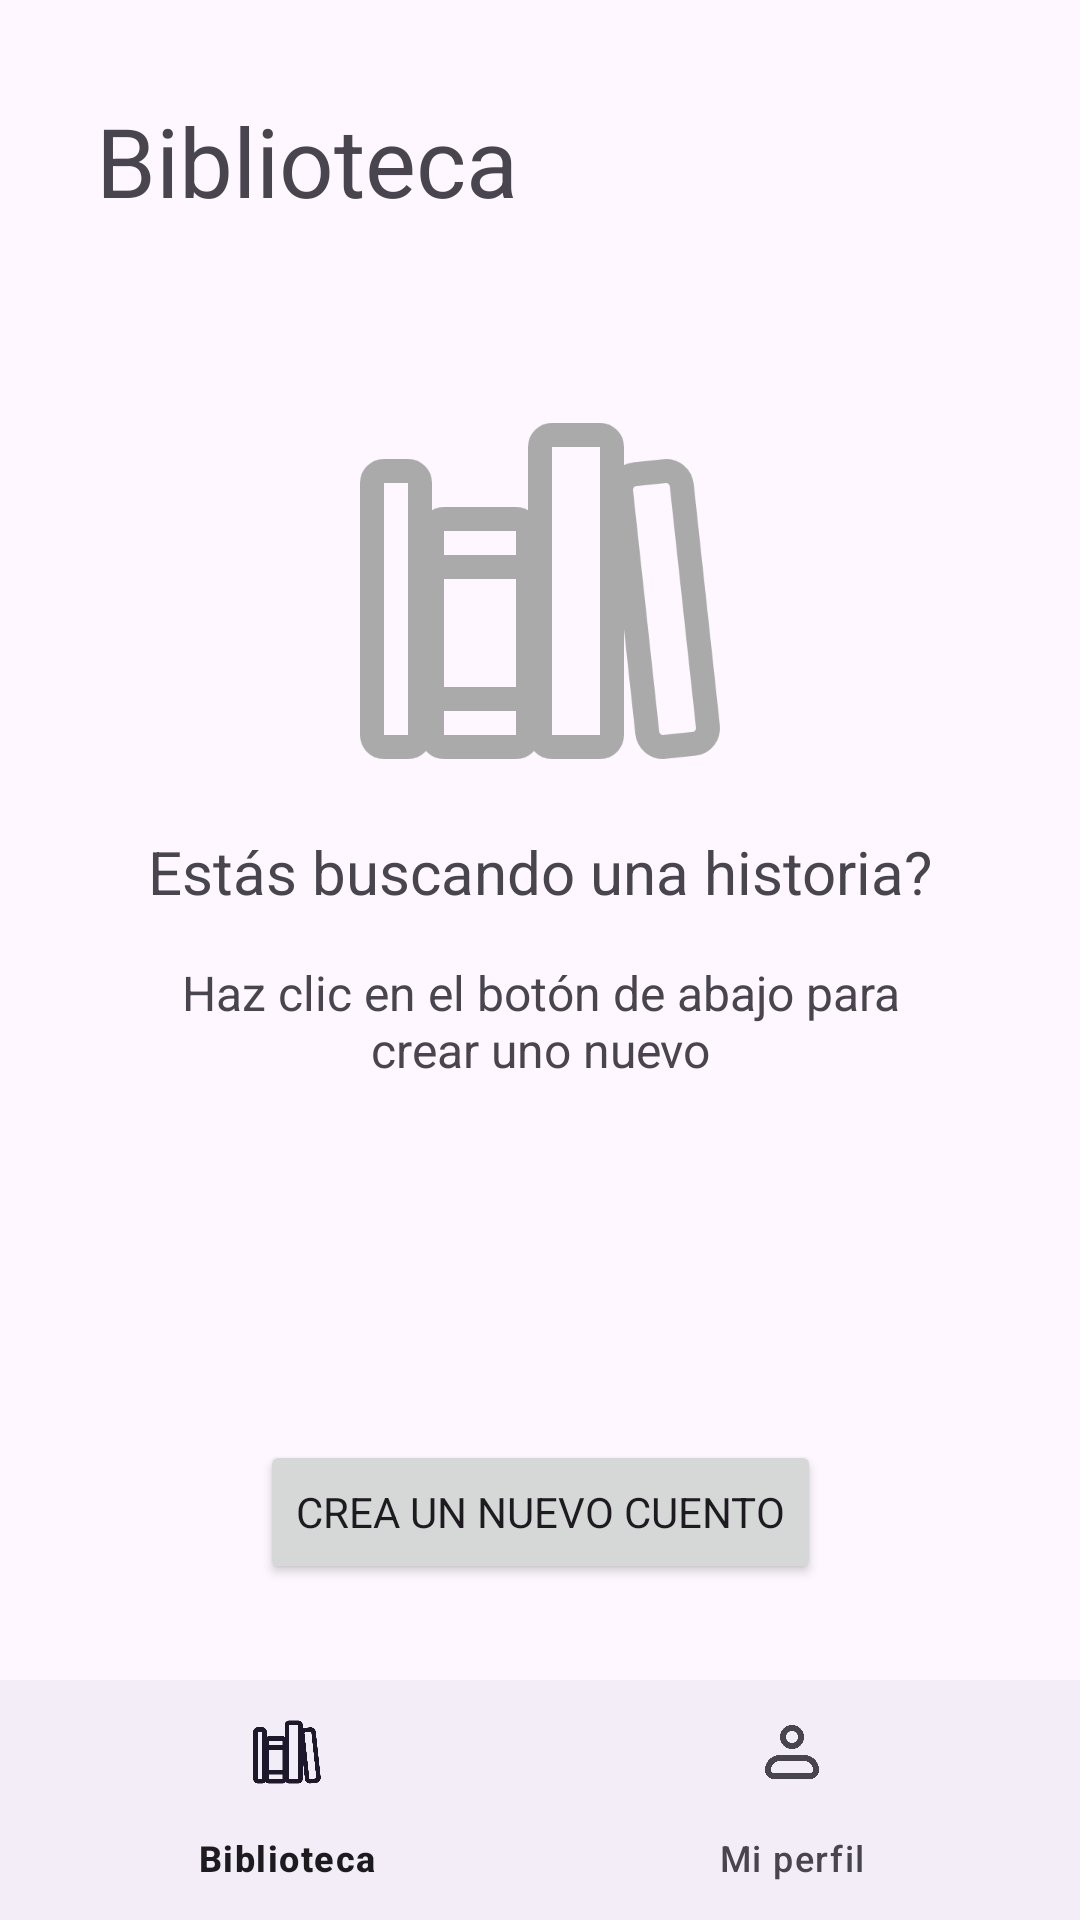

Where icons sit on this 1080*1920 app screen, as (x1, y1, x2, y2):
library: (360, 423, 720, 759)
